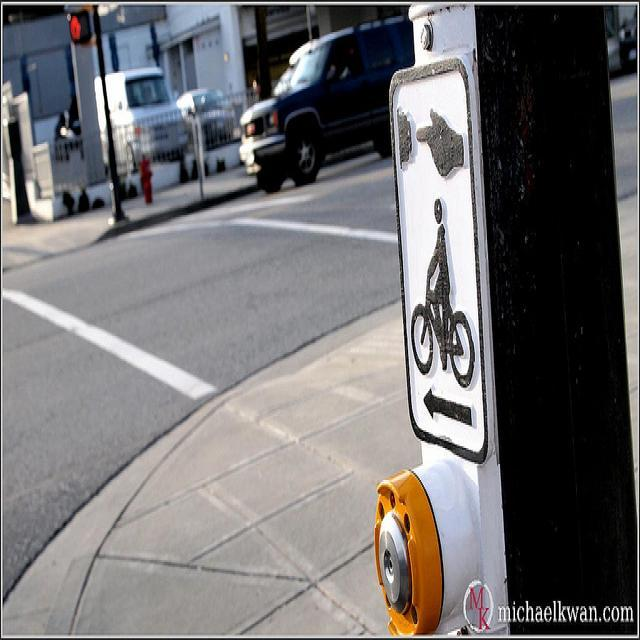fire_hydrant: (140, 153, 152, 203)
